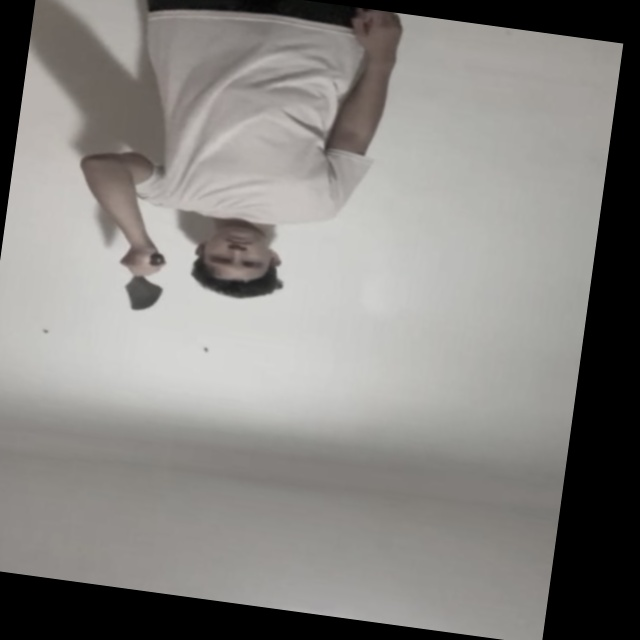Sharp-Object: (122, 276, 163, 313)
